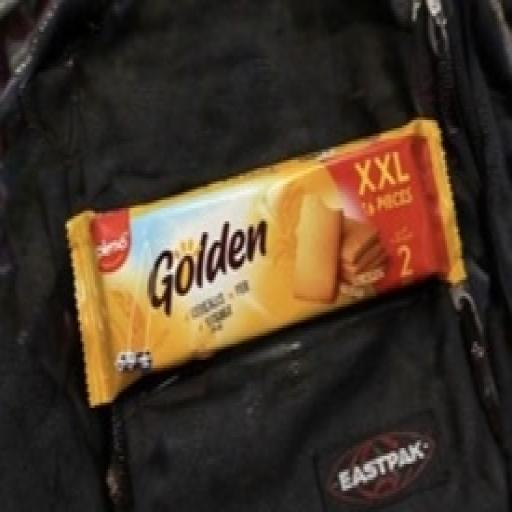golden: (51, 100, 478, 382)
